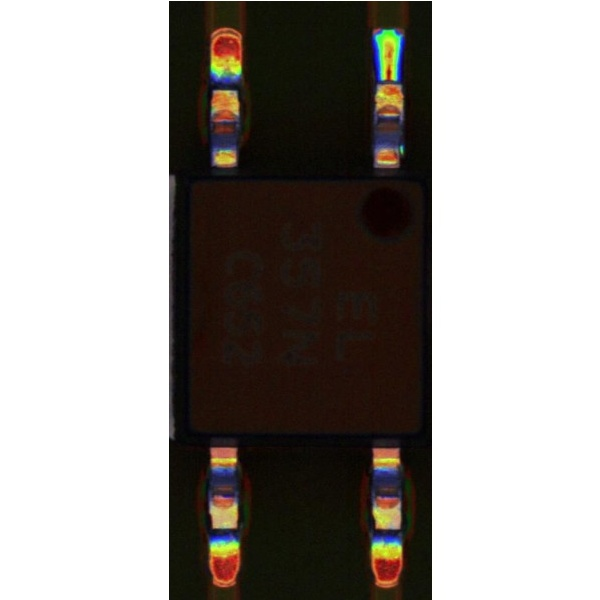Bad_podu: (380, 64, 396, 90)
